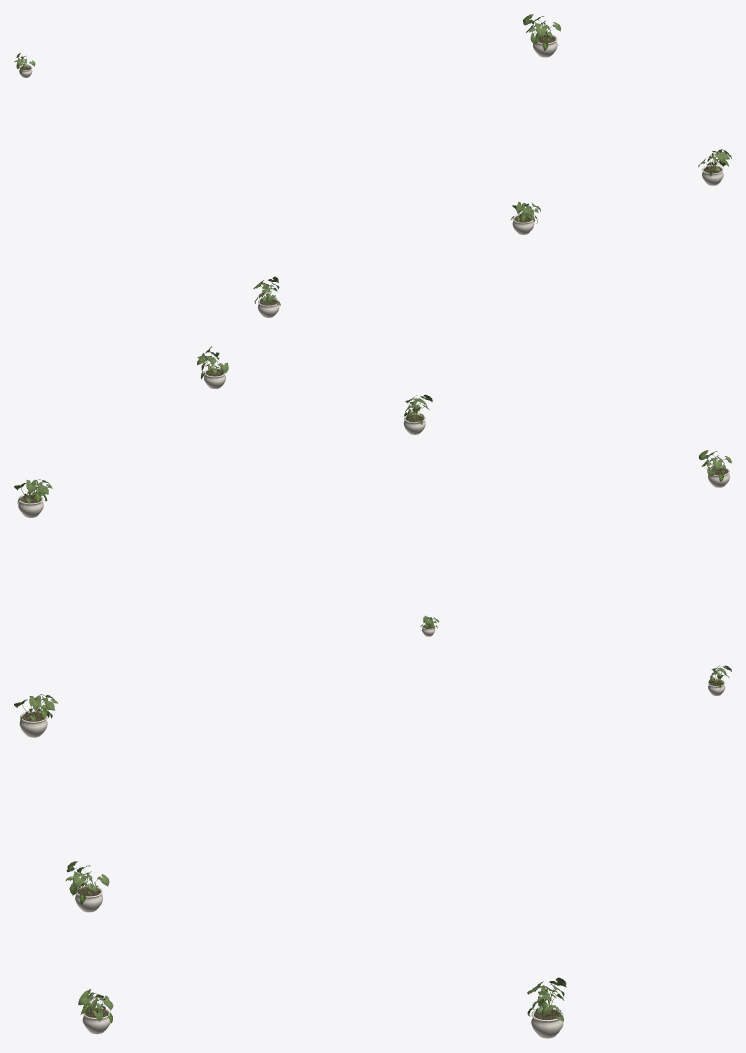
The model's file is PLANTS.glb.
3 renders of one model, top to bottom at view 1: azimuth 30°, elevation 25°; view 2: azimuth 150°, elevation 25°; view 3: azimuth 270°, elevation 25°, orthographic. The views are drawn at different scales.
Parts seen in each view (by area): view 1: WEB_PLANTS; view 2: WEB_PLANTS; view 3: WEB_PLANTS.
Part boxes in pixels (x1,y1,x2,y2): WEB_PLANTS: (14, 14, 731, 317); WEB_PLANTS: (14, 346, 731, 636); WEB_PLANTS: (14, 665, 731, 1038).
Bounding box in the file's own units: 11.41 × 1.36 × 10.95.
3 materials, 2 textured.
